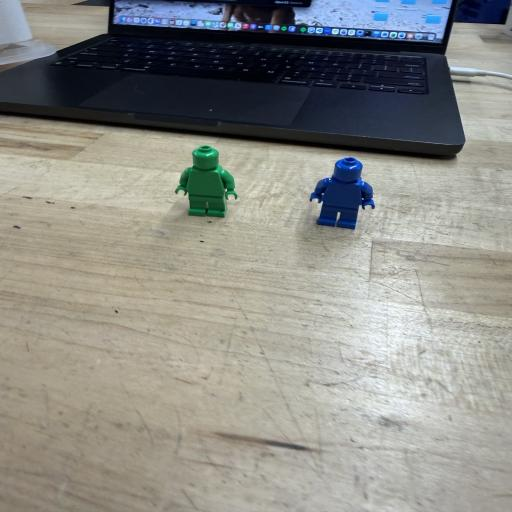blue-minifig: (310, 157, 375, 229)
green-minifig: (175, 146, 237, 217)
